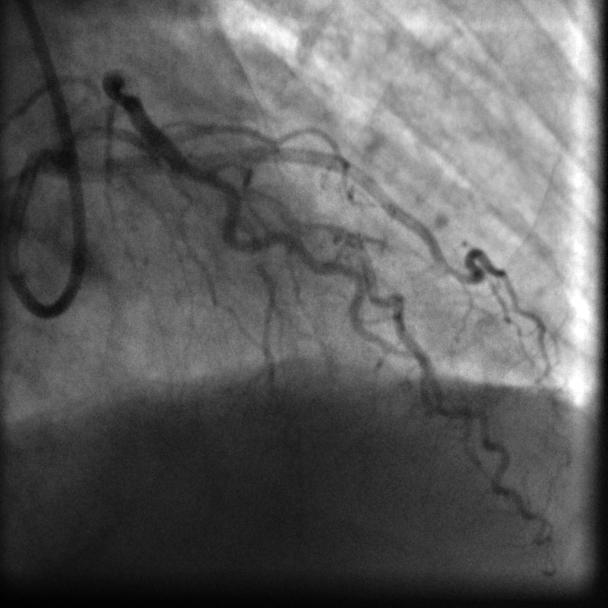Stenosis: (111, 78, 141, 115)
